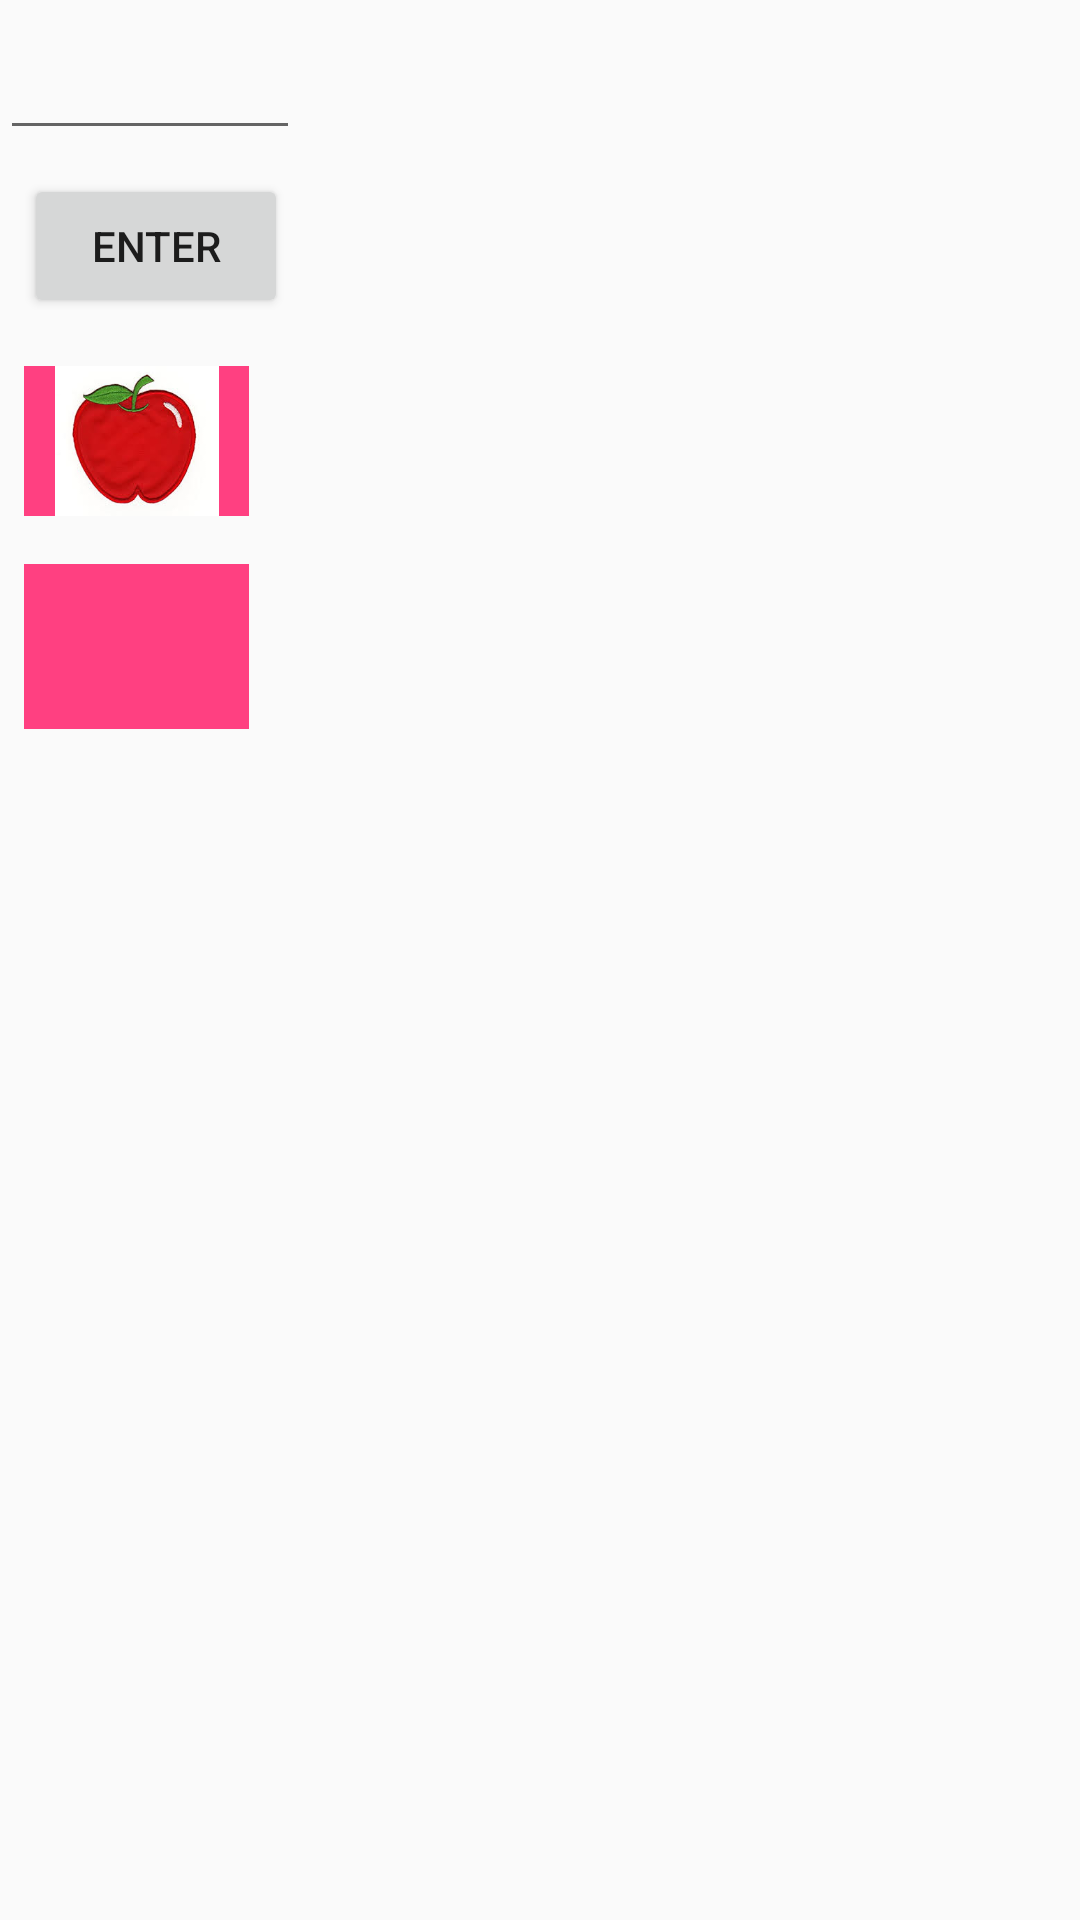

Where to tap for icons on this 1080px x 1920px app screen, as [x,y]:
apple: [136,441]
